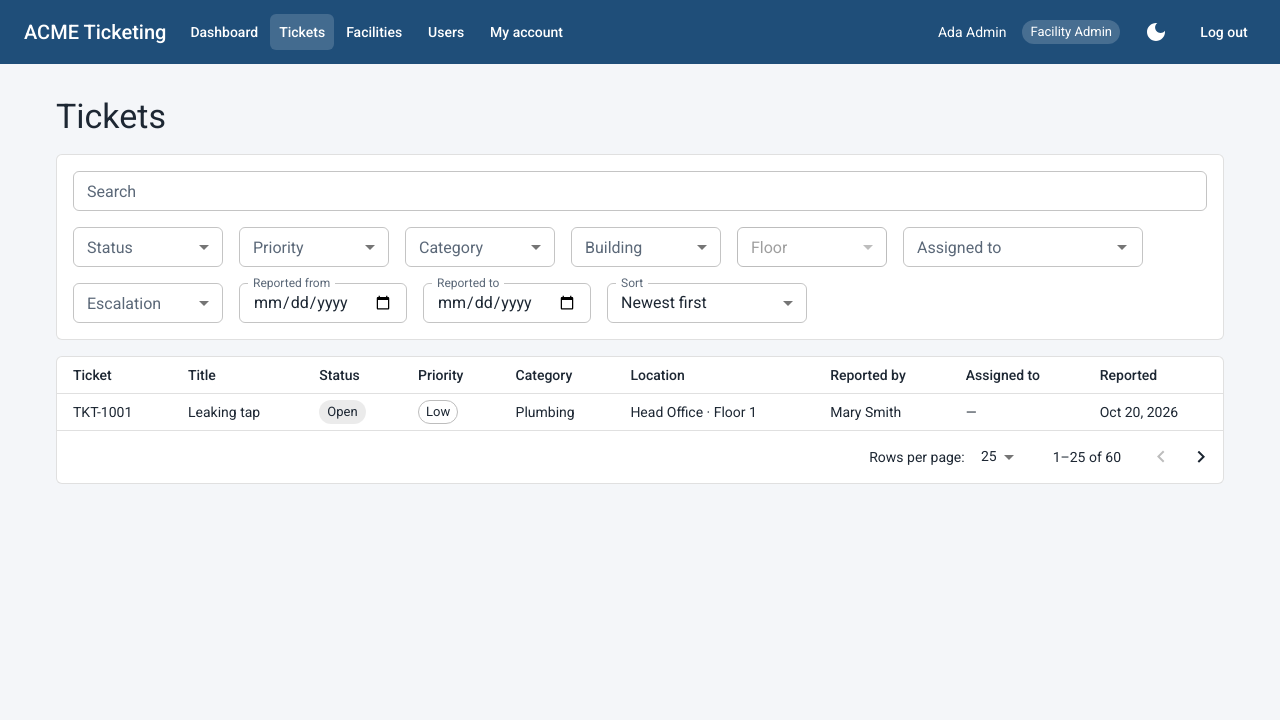
TicketsPage › finds an engineer by typing part of their name
In the dropdown labelled "Assigned to": {"x": 1006, "y": 247} [909, 233, 1104, 261], type "pat"
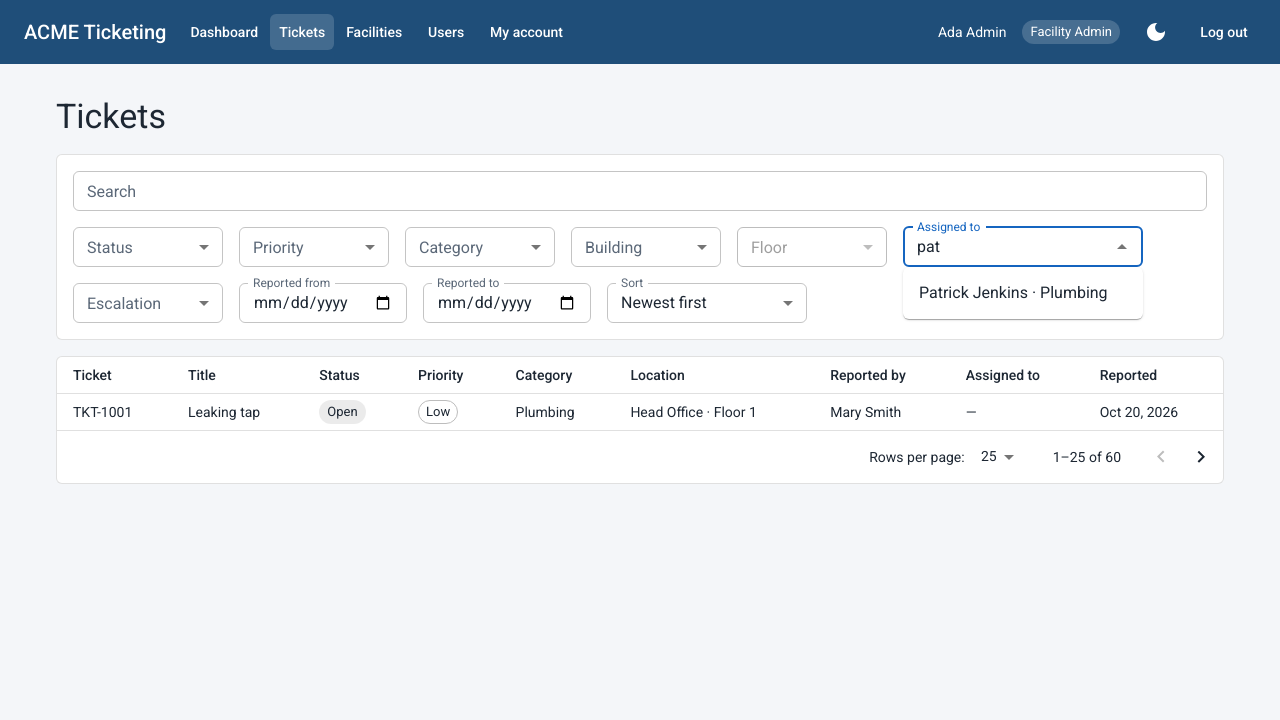
Click the option "Patrick Jenkins · Plumbing": {"x": 1013, "y": 292} [919, 283, 1108, 302]
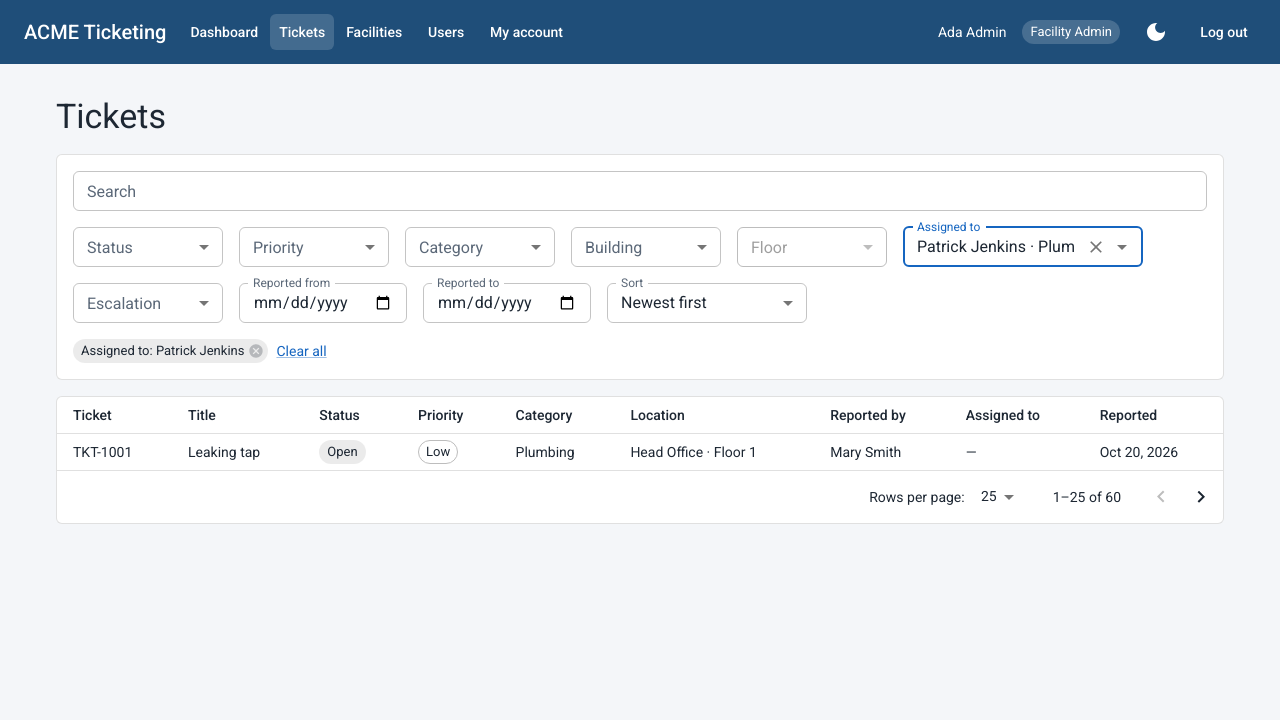
expect the text "Assigned to: Patrick Jenkins" is shown: met, box [73, 341, 252, 361]
